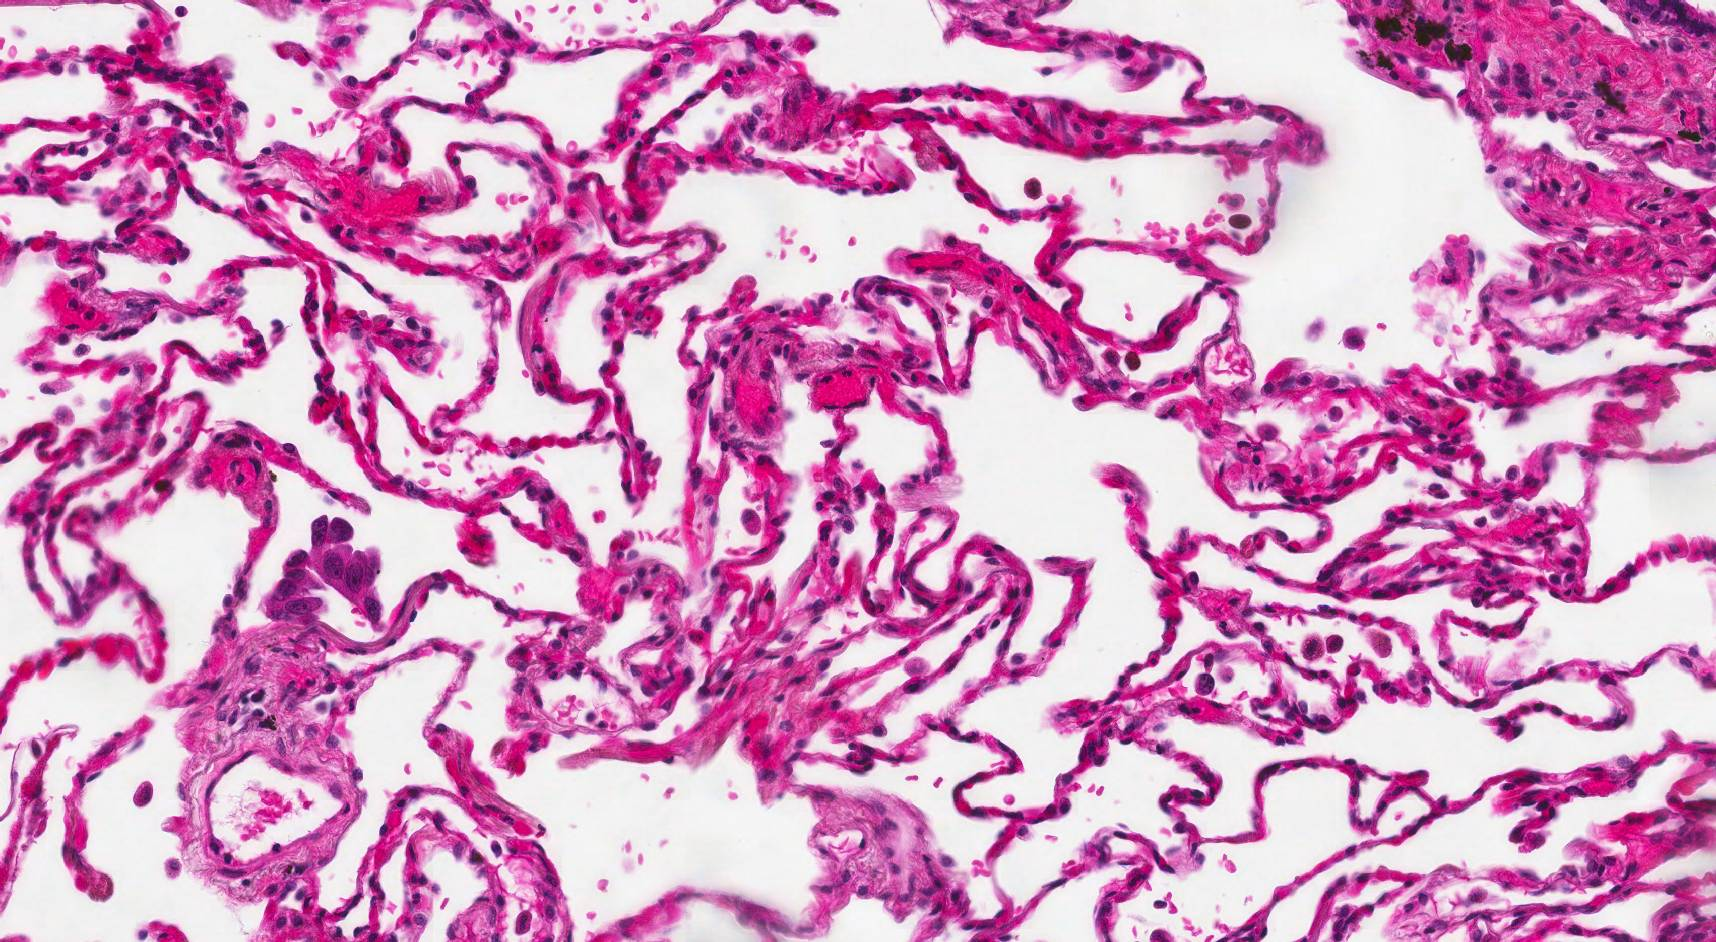stas: (260, 515, 385, 632)
